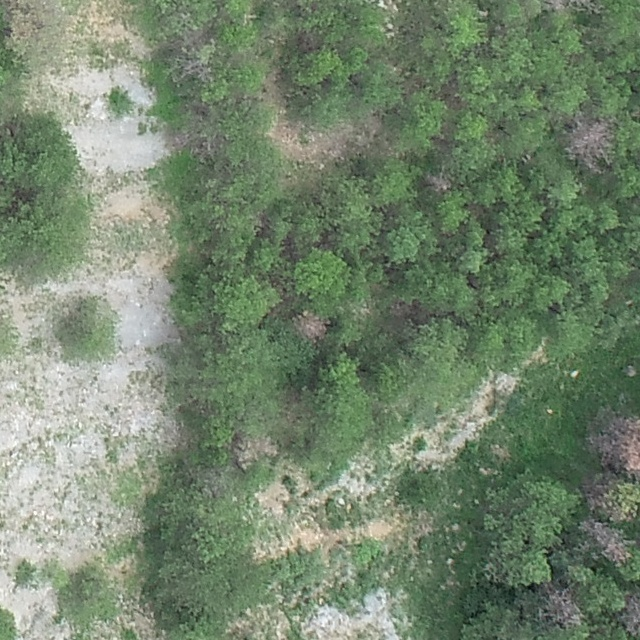unhealthy: (0, 0, 66, 52), (590, 410, 638, 478), (563, 117, 612, 174), (581, 519, 631, 565), (586, 479, 633, 521), (232, 432, 279, 471), (544, 583, 583, 628), (294, 308, 329, 340), (621, 588, 639, 639), (181, 58, 214, 82), (423, 171, 452, 193), (564, 0, 604, 12), (541, 0, 567, 11)
